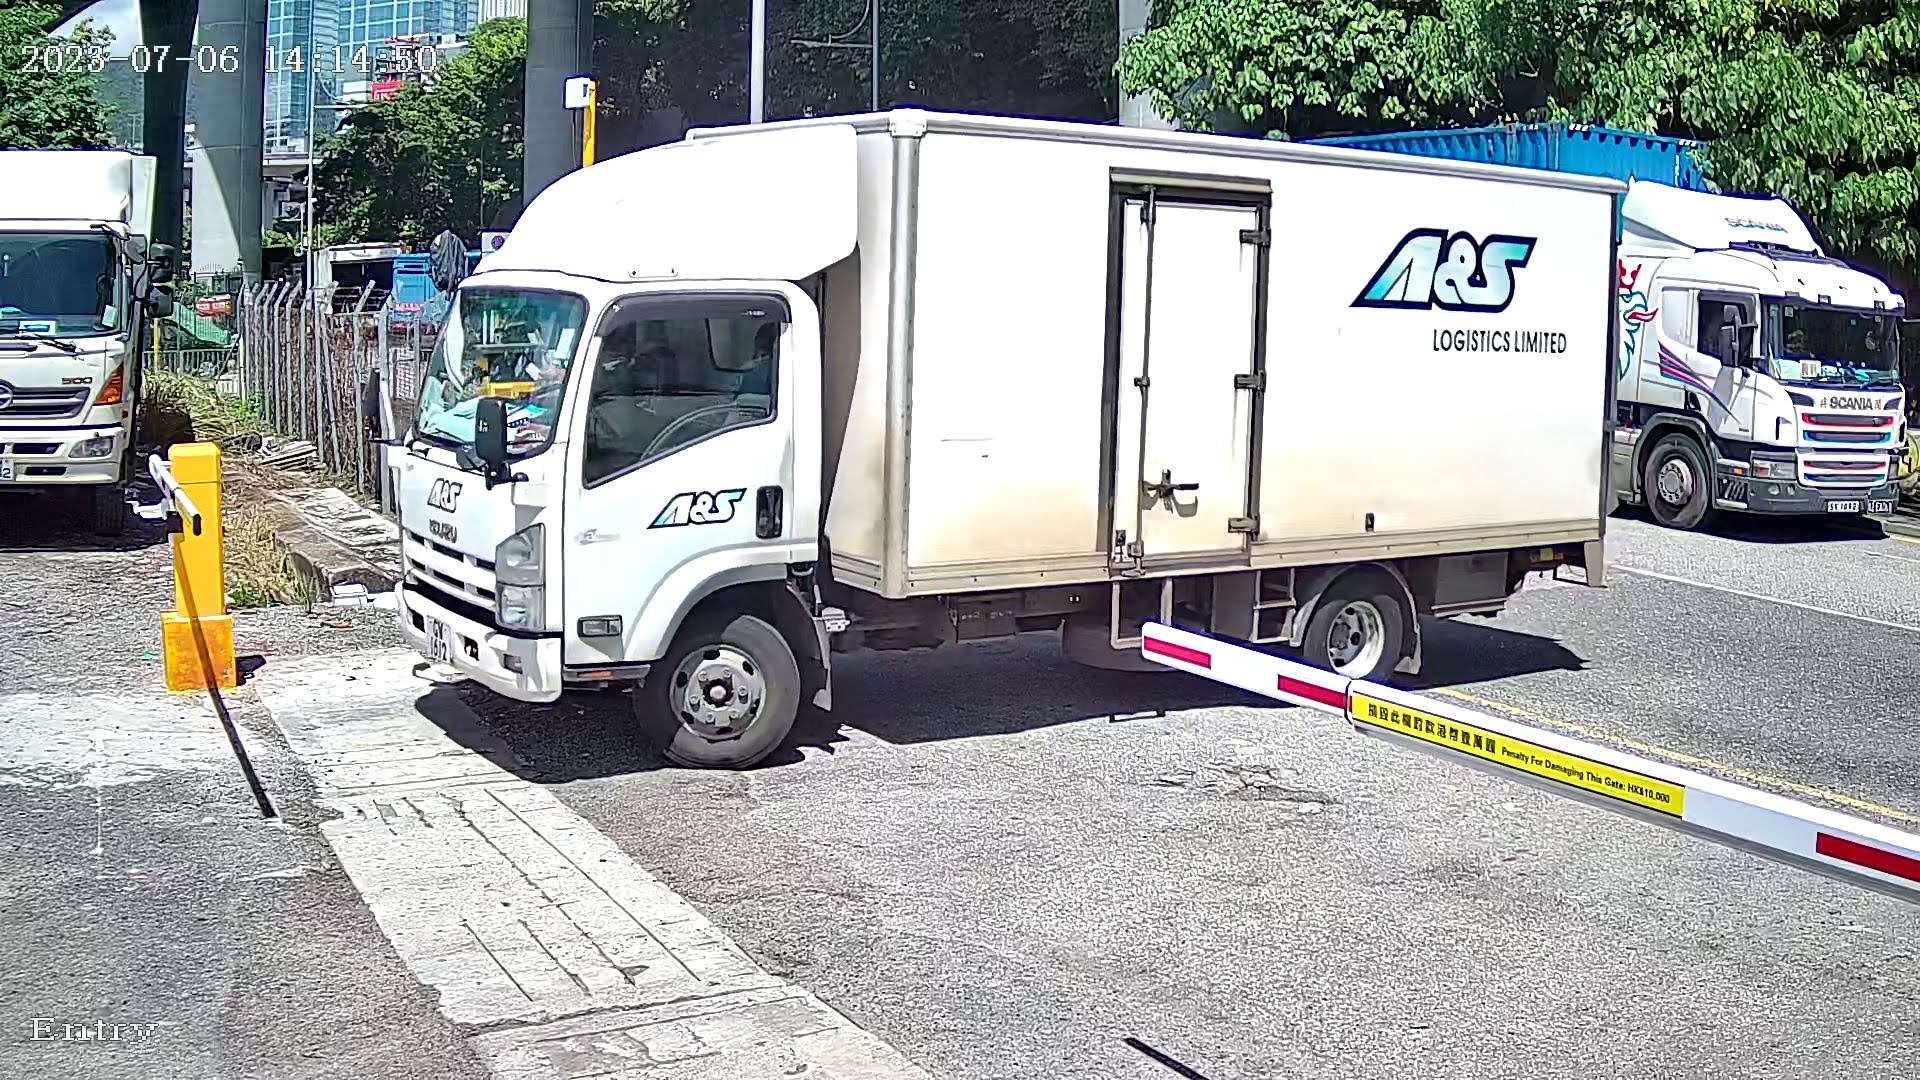truck_small: (313, 50, 1669, 825)
